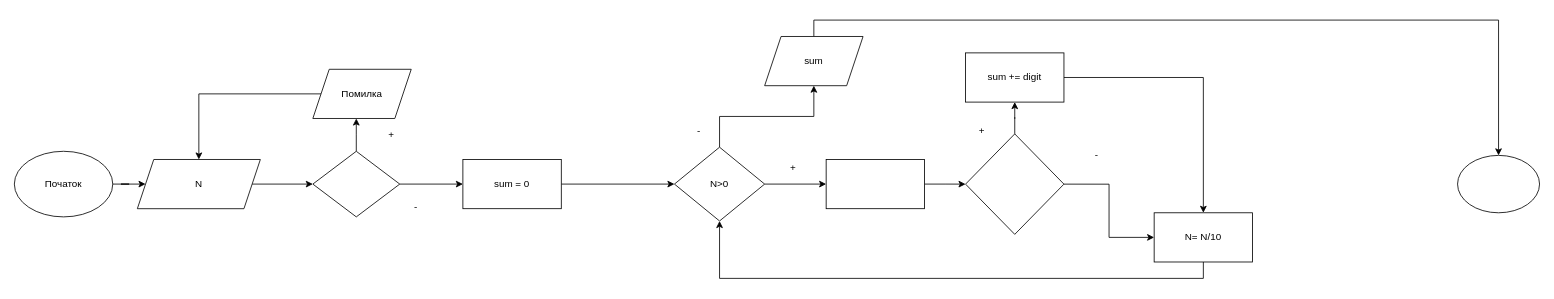
The diagram is 1554 pixels wide and 299 high, and some of its shapes have lost their labels. The shapes that lost their labels are listed below. From the top down, each one's centre as x and y in pixels, then its label:
At (x=356, y=183): "N<=0".
At (x=875, y=184): "digit = N % 10".
At (x=1014, y=183): "digit > 2 && digit % 2 != 0".
At (x=1498, y=184): "Кінець".
